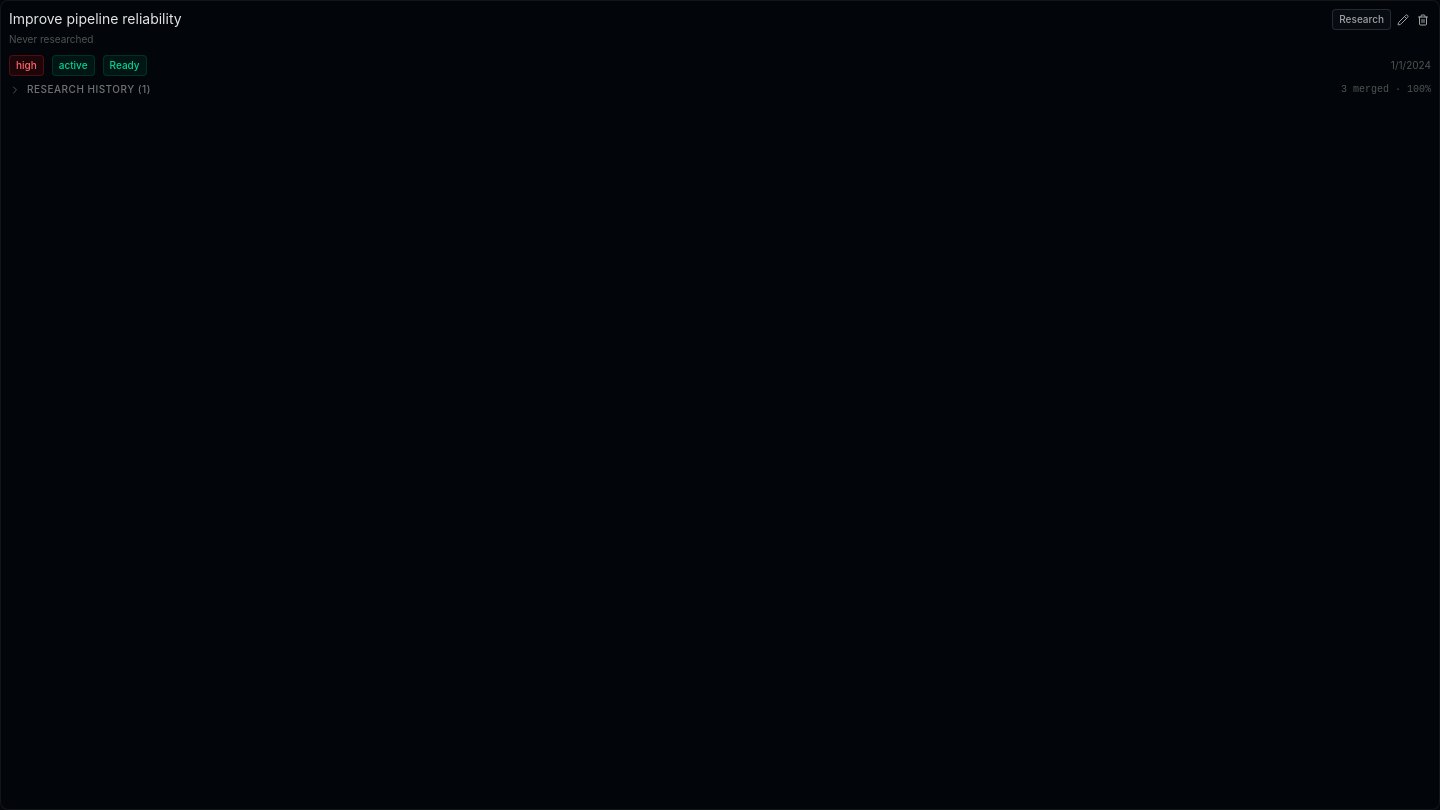
Test: DirectionCard autonomous/assisted merge split › shows only assisted badge when all merges are assisted
Click the button "Research History (1) 3 merged · 100%".
click(85, 89)  # box left=9, top=82, right=1431, bottom=97
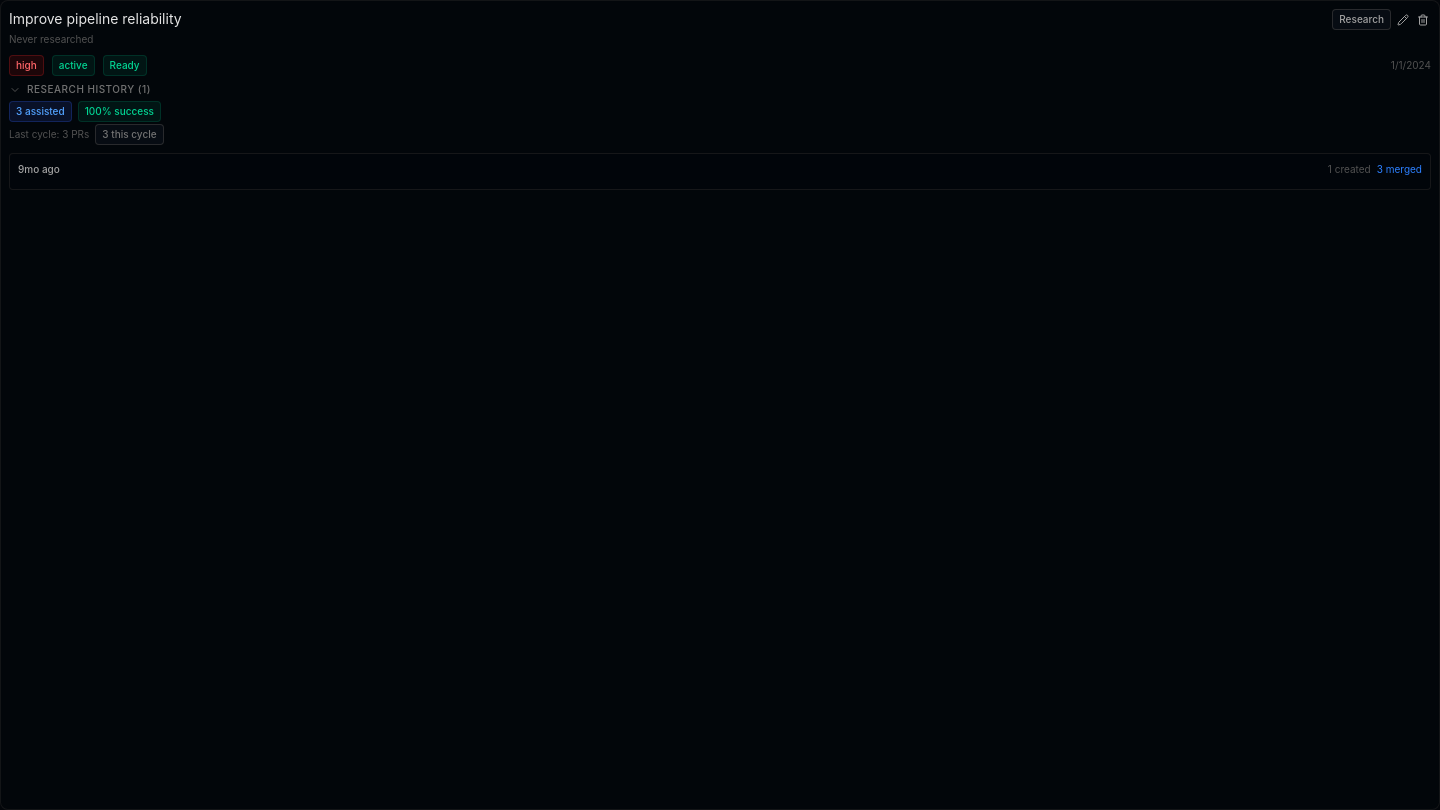
Check: the text "3 assisted" is shown, box left=9, top=101, right=72, bottom=122
